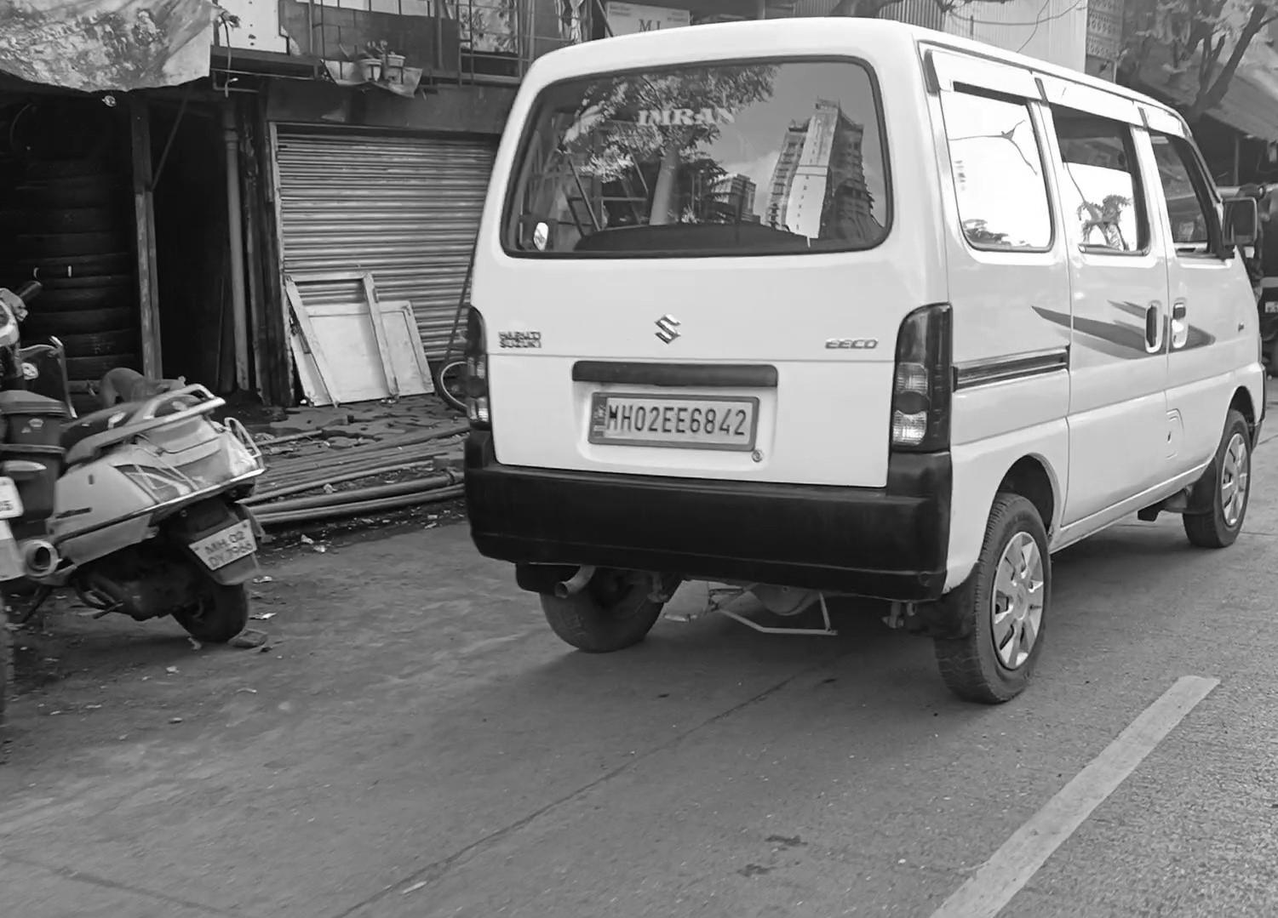number_plate: (590, 397, 760, 447)
